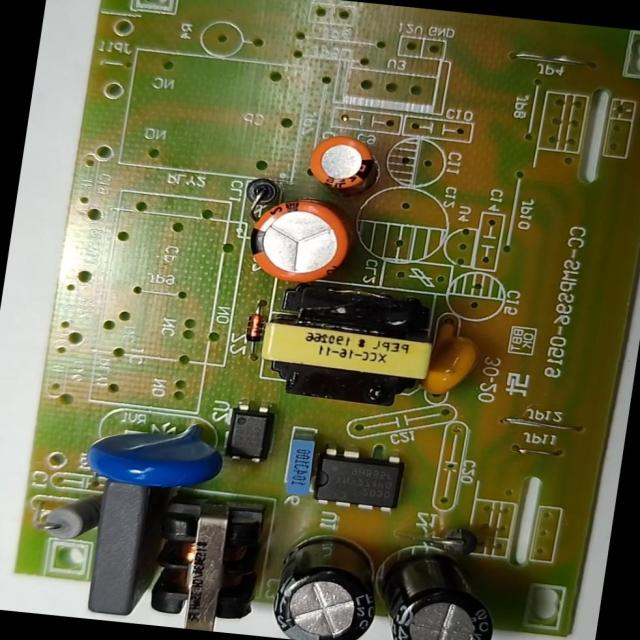Cap1: (242, 195, 354, 287)
Cap2: (304, 134, 374, 190)
Cap3: (263, 531, 386, 640)
Cap4: (368, 542, 503, 640)
MOSFET: (312, 446, 407, 514)
Mov: (83, 414, 225, 495)
Resistor: (39, 484, 104, 544)
Transformer: (259, 278, 442, 408), (137, 488, 270, 635)
